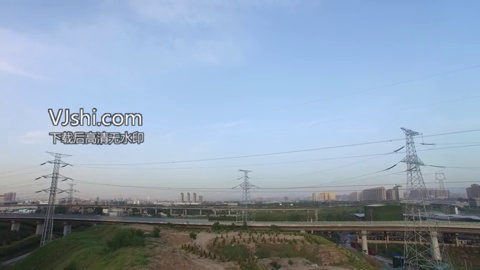tower_body: (395, 124, 442, 270)
tower_foot: (400, 244, 436, 269)
tower_head: (396, 127, 424, 139)
